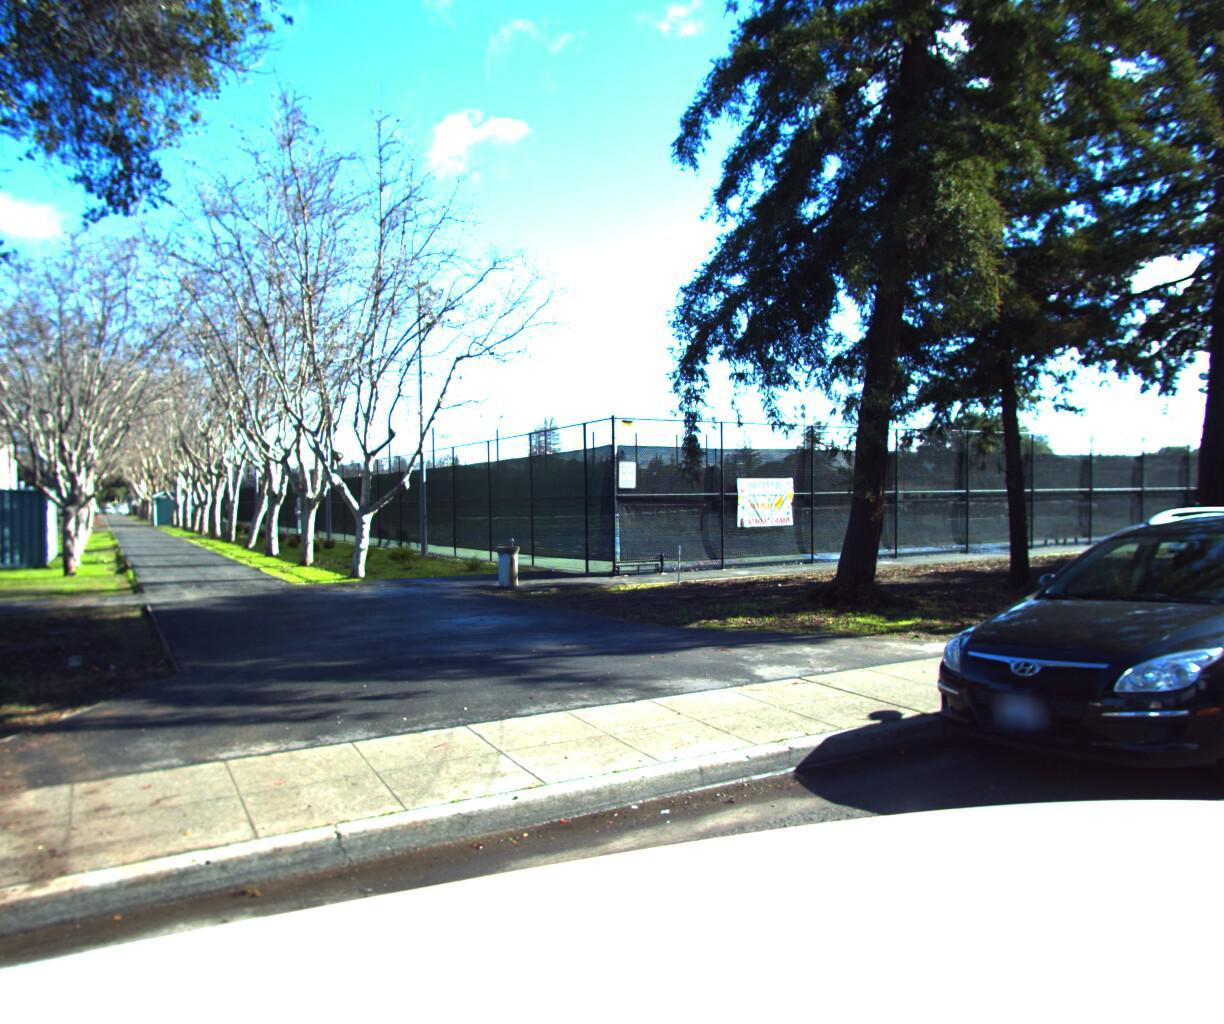car: (889, 495, 1224, 835)
